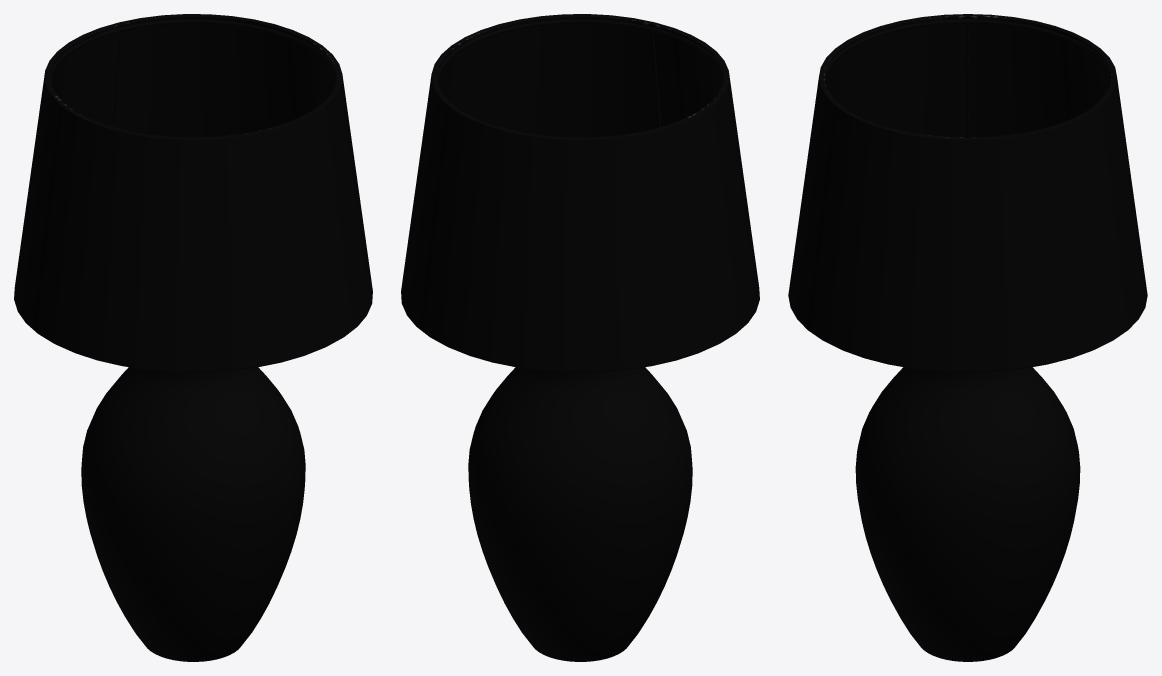
The model's file is Jade Black Lamp.glb.
3 views of the same model, side by side, from view 1: azimuth 30°, elevation 25°; view 2: azimuth 150°, elevation 25°; view 3: azimuth 270°, elevation 25° (orthographic).
Parts seen in each view (by area): view 1: node_id265; view 2: node_id265; view 3: node_id265.
Boxes of the visible parts, x1,y1,x2,y2 form: node_id265: [14, 14, 372, 661]; node_id265: [401, 14, 759, 661]; node_id265: [788, 14, 1147, 661].
Size of the model in its own units: 0.1615 by 0.2803 by 0.1615.
Materials: 1 (1 with a texture image).
